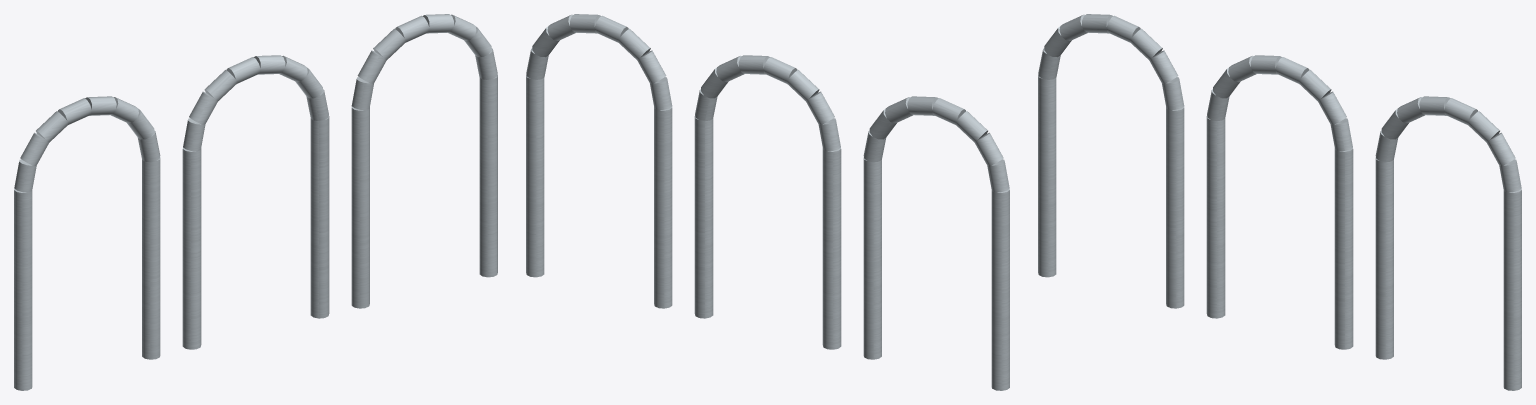
The model's file is bike-rack.glb.
3 renders of one model, left to right at view 1: azimuth 30°, elevation 25°; view 2: azimuth 150°, elevation 25°; view 3: azimuth 330°, elevation 25°, orthographic.
Visible parts, largest first — view 1: bike-rack; view 2: bike-rack; view 3: bike-rack.
Part boxes in pixels (x1,y1,x2,y2): bike-rack: (14,14,497,390); bike-rack: (526,14,1009,390); bike-rack: (1038,14,1521,390).
Bounding box in the file's own units: 1.65 × 0.8961 × 0.056.
1 material, 1 textured.
